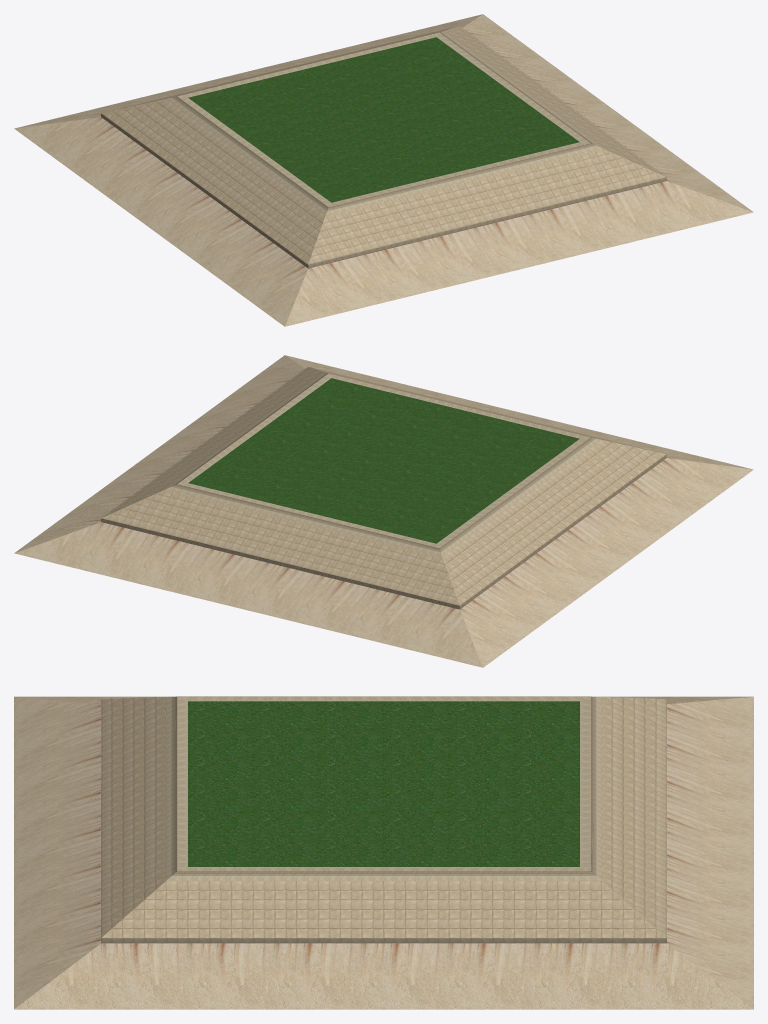
File: ply_nboo_garden_med_s01_l1.fbx
The picture shows the model from 3 angles, top to bottom: view 1: azimuth 30°, elevation 25°; view 2: azimuth 150°, elevation 25°; view 3: azimuth 270°, elevation 25°; orthographic projection. The views are drawn at different scales.
Parts seen in each view (by area): view 1: mesh_node; view 2: mesh_node; view 3: mesh_node.
Part boxes in pixels (x1,y1,x2,y2): mesh_node: (14,14,753,326); mesh_node: (14,355,753,667); mesh_node: (14,696,753,1009).
Size of the model in its own units: 34 by 3.51 by 34.
